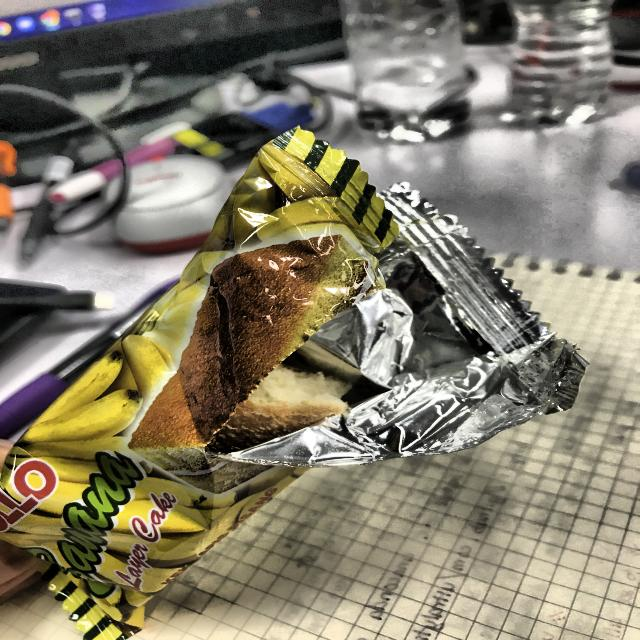Plastic: (3, 120, 587, 640)
